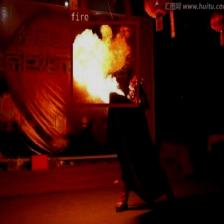fire: (70, 20, 138, 106)
